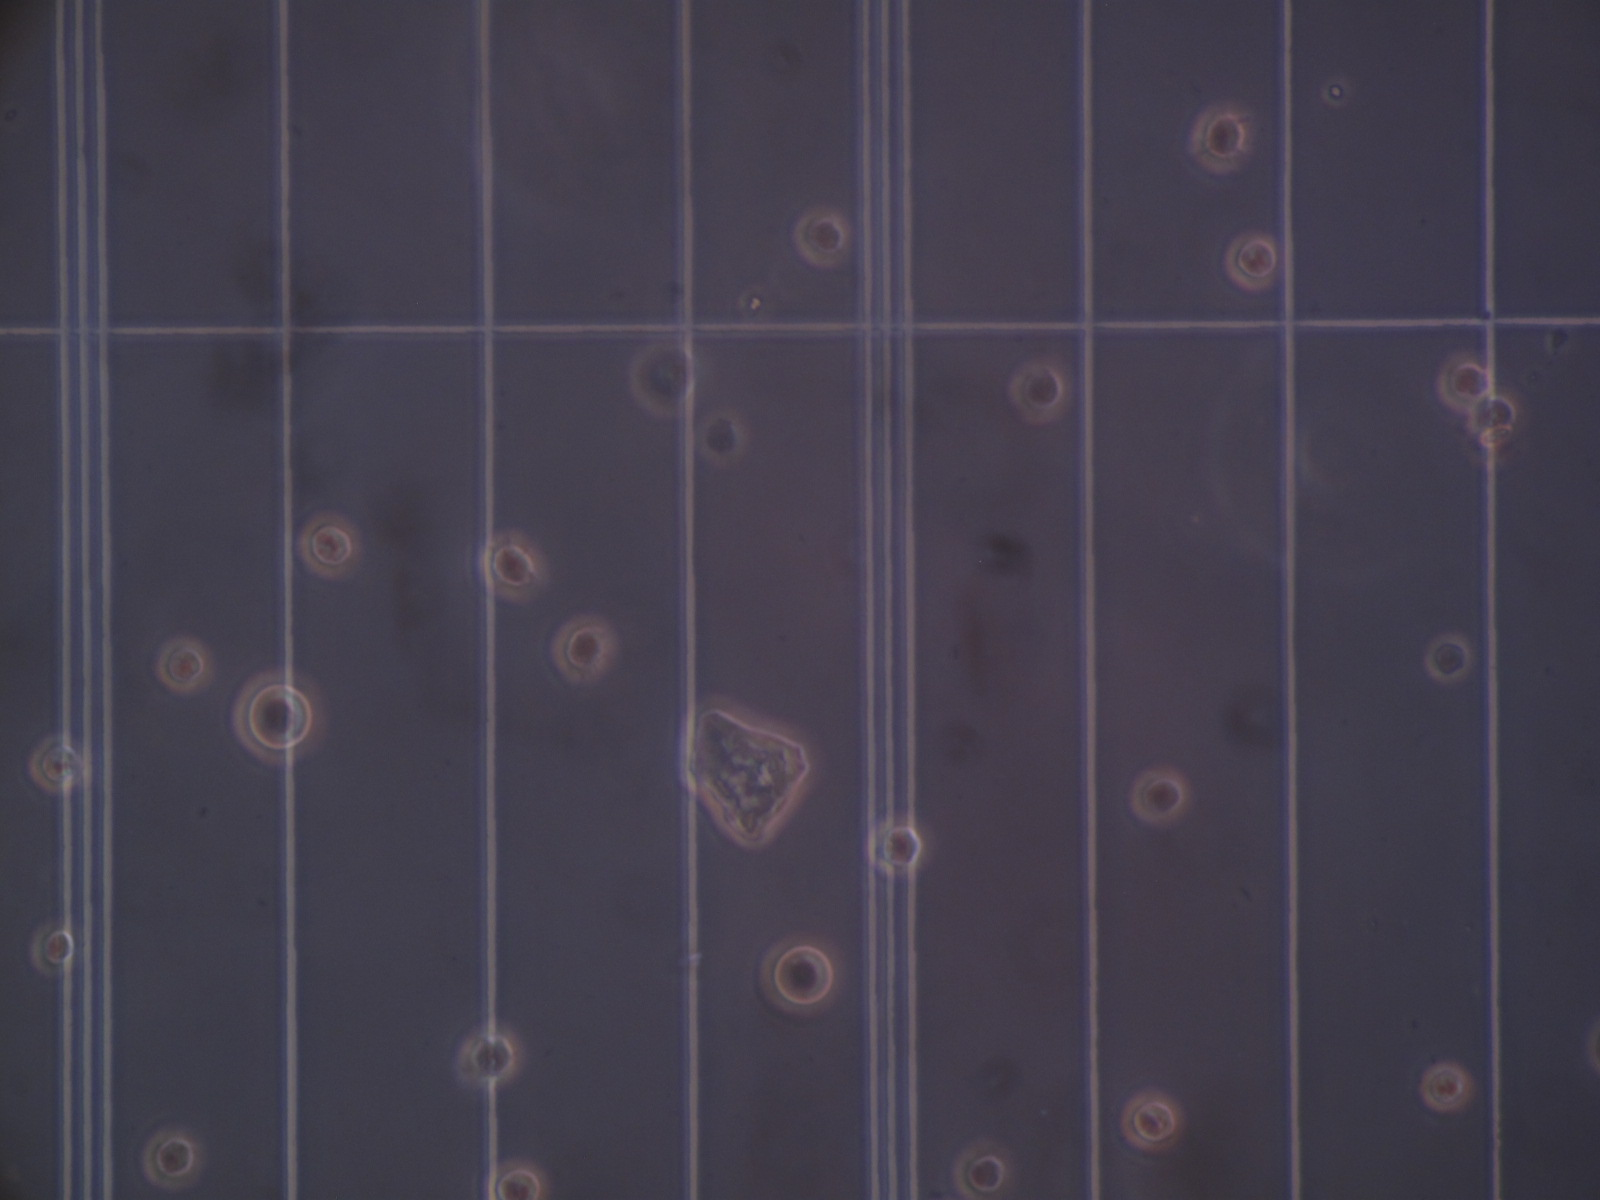hemo: (231, 666, 329, 766), (758, 937, 842, 1016), (629, 338, 697, 418), (477, 529, 551, 601), (552, 615, 619, 684), (1191, 103, 1255, 175), (299, 511, 365, 579), (144, 1124, 209, 1189), (457, 1025, 523, 1087), (1123, 1087, 1186, 1150), (1007, 361, 1070, 421), (1130, 768, 1193, 826), (25, 734, 89, 790), (866, 816, 925, 875), (792, 211, 850, 268), (954, 1145, 1012, 1197), (1436, 354, 1490, 410), (480, 1156, 548, 1200), (1226, 232, 1277, 290), (157, 635, 212, 689), (29, 921, 78, 976), (1419, 1064, 1470, 1111), (1426, 634, 1471, 683), (1468, 395, 1518, 434)
